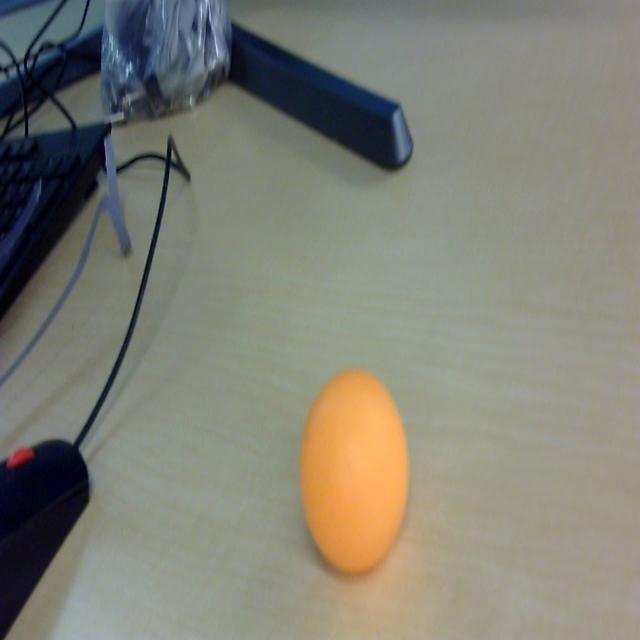ball: (296, 368, 411, 584)
